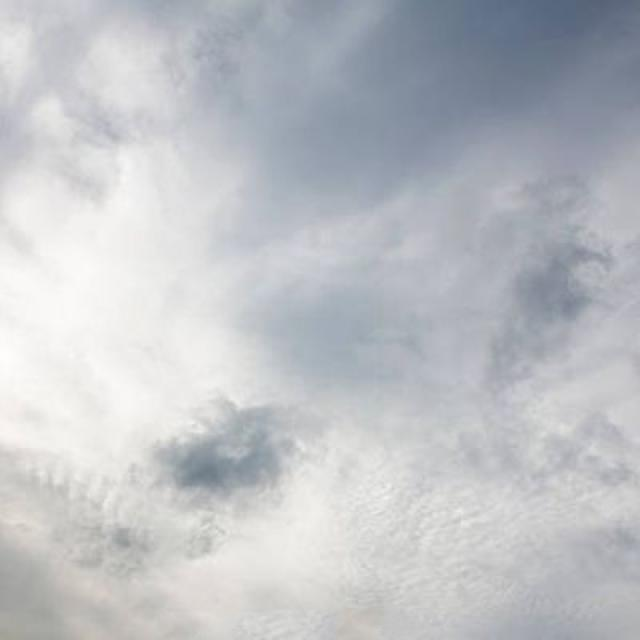Ns: (1, 23, 640, 606)
